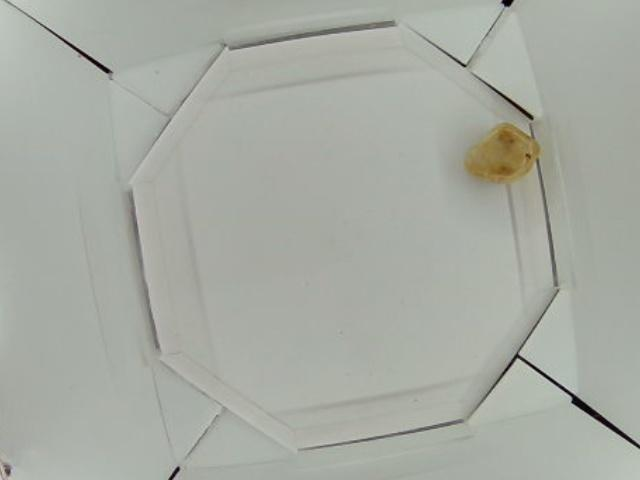Pebble: (465, 125, 544, 185)
